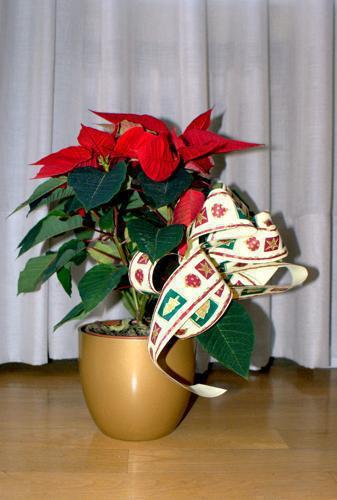Matera: (17, 96, 307, 449)
